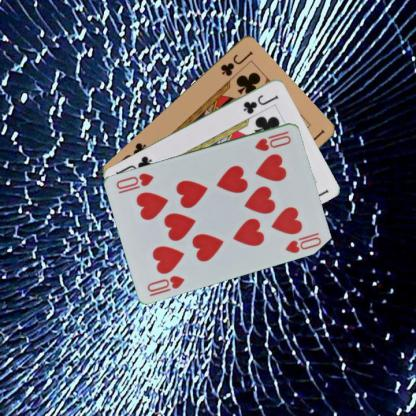10h: (252, 128, 292, 153), (144, 273, 186, 293)
Jc: (218, 47, 254, 77), (240, 91, 280, 115)
